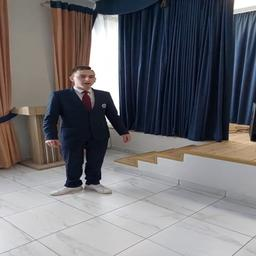person: (43, 66, 132, 195)
